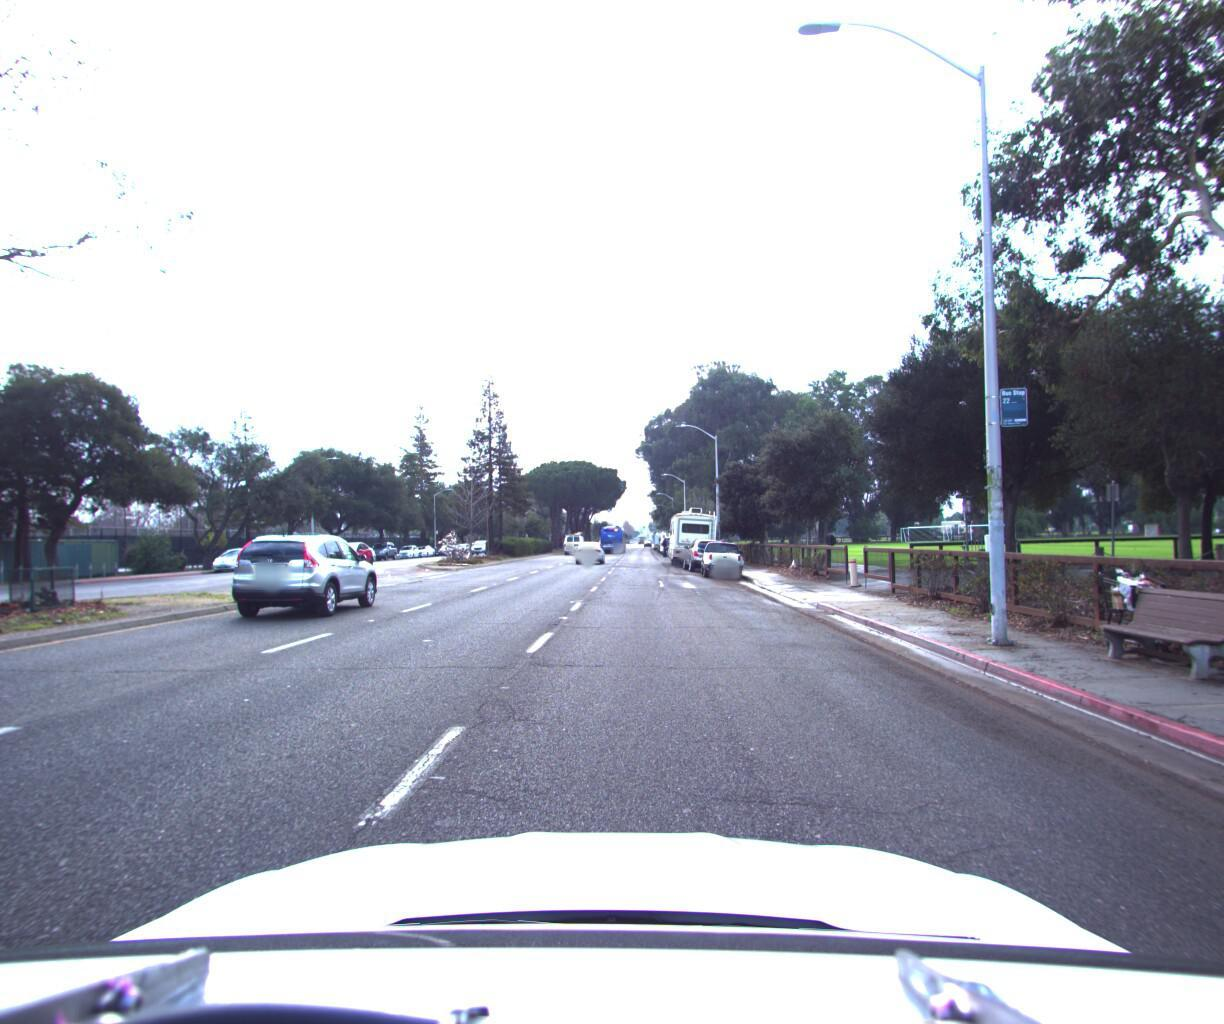car: (226, 531, 386, 619), (696, 531, 747, 573), (316, 535, 375, 566), (681, 529, 730, 565), (209, 541, 269, 570), (364, 535, 400, 557), (573, 533, 606, 557), (563, 526, 586, 548)
other_vehicle: (666, 498, 719, 560)
